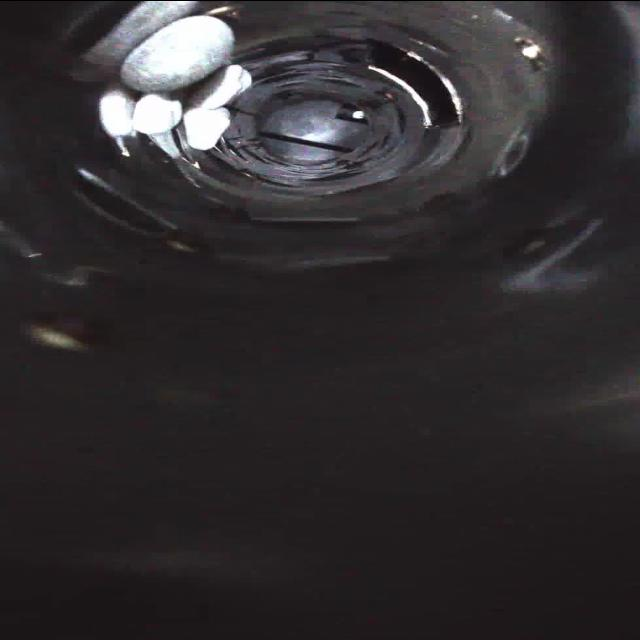crack: (259, 167, 371, 205), (243, 44, 349, 84), (205, 90, 249, 162), (382, 103, 408, 161)
hole: (368, 36, 466, 126)
